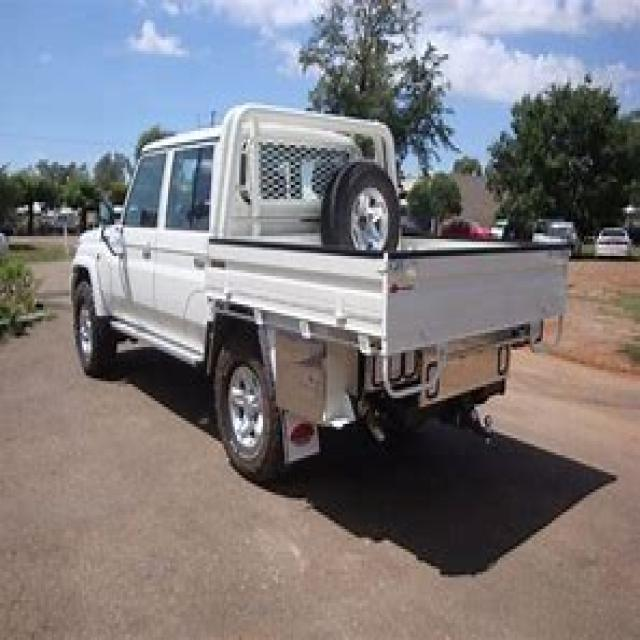light_vehicle: (64, 99, 566, 495)
